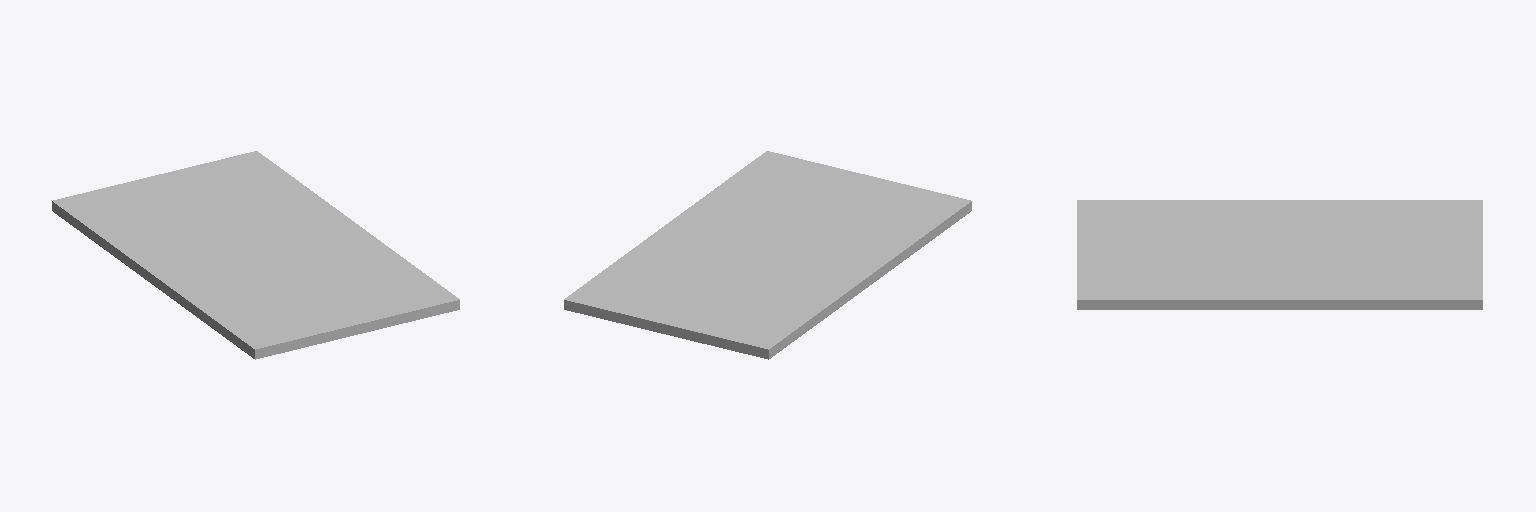
Rendered from WC_Decke_geschlossen.obj.
3 renders of one model, left to right at view 1: azimuth 30°, elevation 25°; view 2: azimuth 150°, elevation 25°; view 3: azimuth 270°, elevation 25°, orthographic.
Parts seen in each view (by area): view 1: Mesh26 Component_676 G_12_WC_Decke_geschlossen_dwg1 Model, Mesh10 Component_673 G_12_WC_Decke_geschlossen_dwg1 Model; view 2: Mesh26 Component_676 G_12_WC_Decke_geschlossen_dwg1 Model, Mesh10 Component_673 G_12_WC_Decke_geschlossen_dwg1 Model; view 3: Mesh26 Component_676 G_12_WC_Decke_geschlossen_dwg1 Model, Mesh10 Component_673 G_12_WC_Decke_geschlossen_dwg1 Model.
Boxes of the visible parts, <box> form: Mesh26 Component_676 G_12_WC_Decke_geschlossen_dwg1 Model: <box>52,151,459,351</box>; Mesh10 Component_673 G_12_WC_Decke_geschlossen_dwg1 Model: <box>52,204,459,359</box>; Mesh26 Component_676 G_12_WC_Decke_geschlossen_dwg1 Model: <box>564,151,971,351</box>; Mesh10 Component_673 G_12_WC_Decke_geschlossen_dwg1 Model: <box>564,204,971,359</box>; Mesh26 Component_676 G_12_WC_Decke_geschlossen_dwg1 Model: <box>1077,200,1482,302</box>; Mesh10 Component_673 G_12_WC_Decke_geschlossen_dwg1 Model: <box>1077,303,1482,309</box>.
Size of the model in its own units: 94.39 by 5.09 by 162.